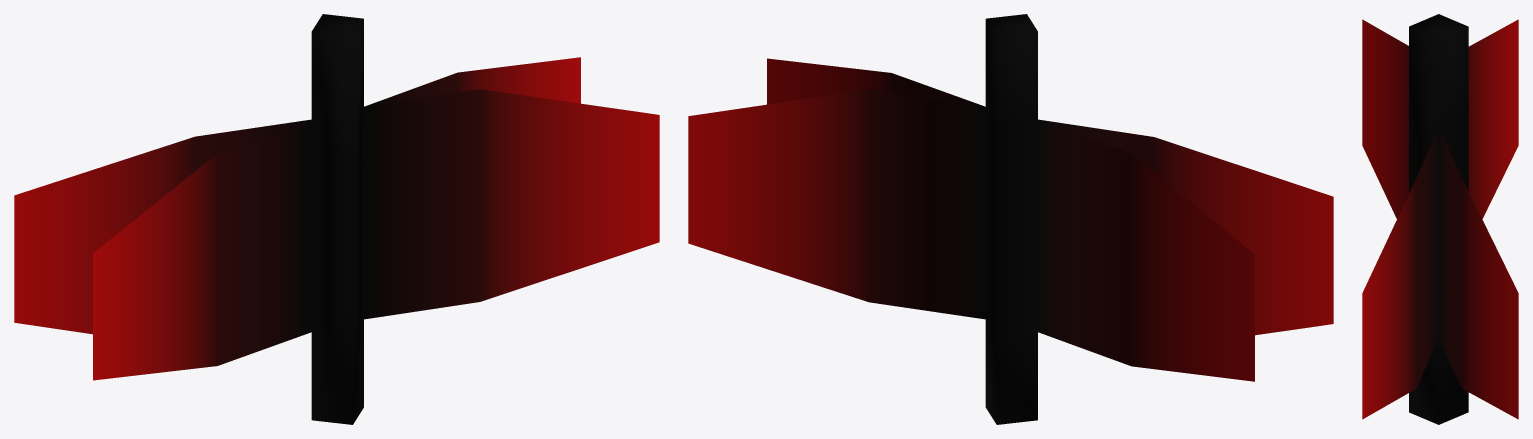
File: DragonFlyEarly.fbx
3 renders of one model, left to right at view 1: azimuth 30°, elevation 25°; view 2: azimuth 150°, elevation 25°; view 3: azimuth 270°, elevation 25°, orthographic.
Visible parts, largest first — view 1: DragonflyEarly; view 2: DragonflyEarly; view 3: DragonflyEarly.
Part boxes in pixels (x1,y1,x2,y2): DragonflyEarly: (14,14,659,424); DragonflyEarly: (688,14,1333,424); DragonflyEarly: (1362,14,1518,424).
Bounding box in the file's own units: 3.1 × 2.03 × 0.7473.
